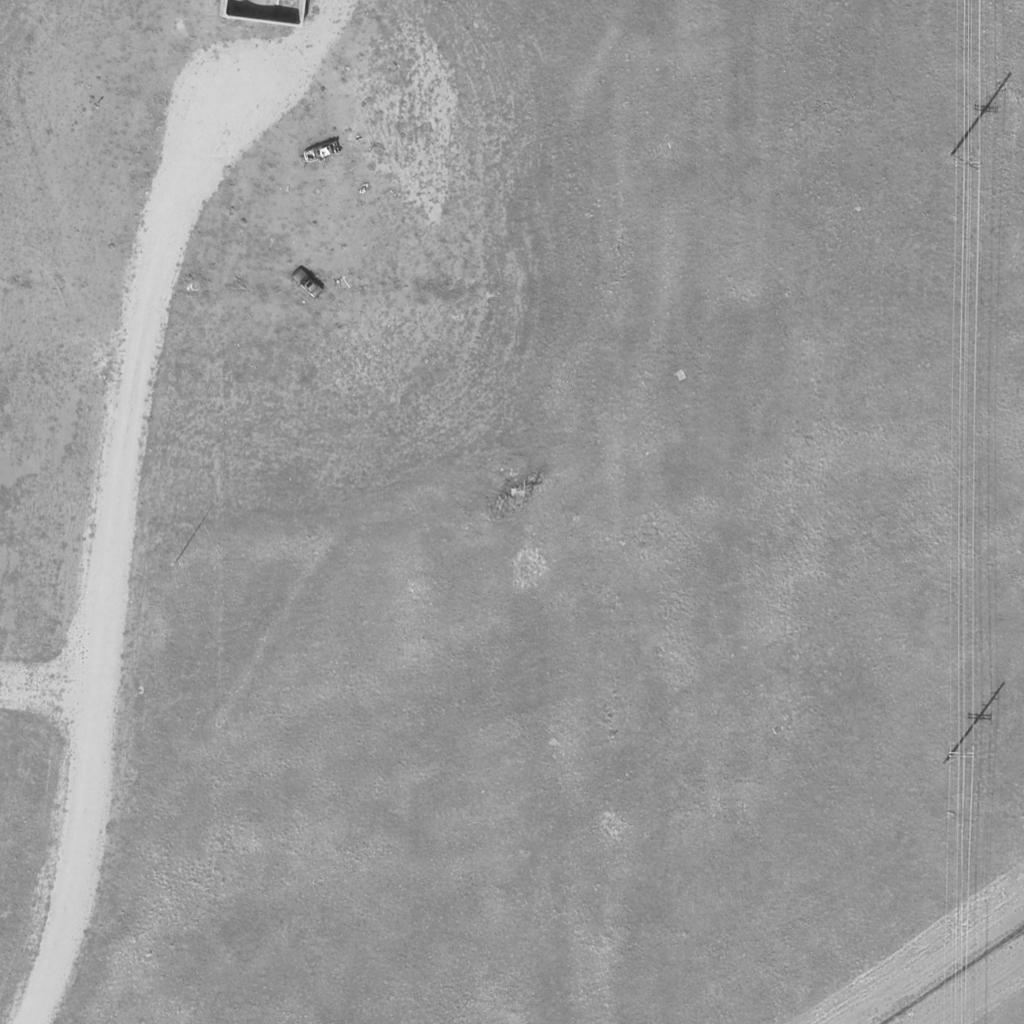vehicle: (302, 138, 342, 166), (291, 267, 325, 299)
